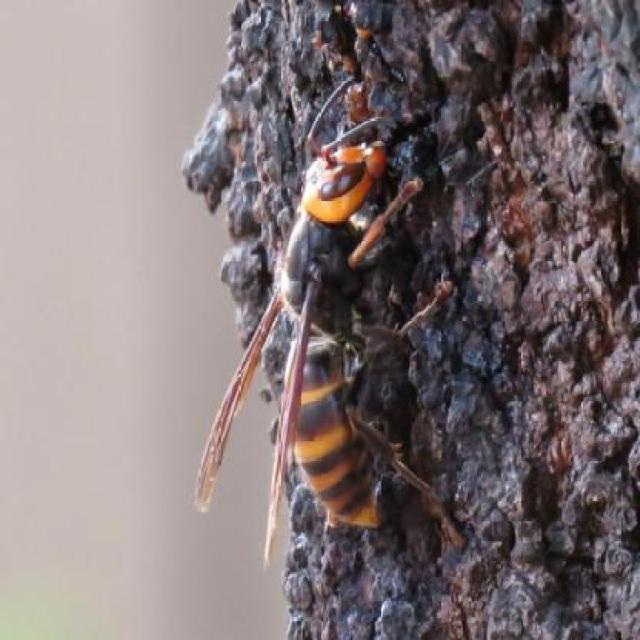Wasp: (184, 70, 472, 554)
